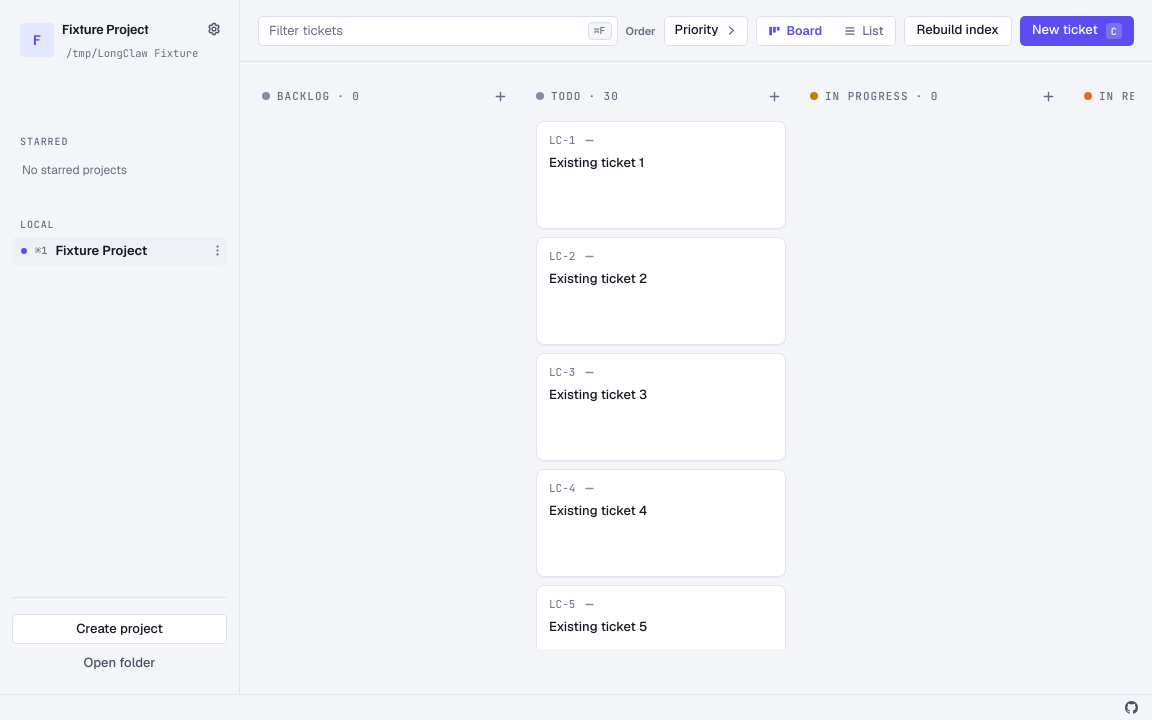
Test: optimistic create, write feedback, and undo (V0-17) › focuses the new card even when it lands outside the rendered window
expect the button "Board" is shown: met, box [758, 16, 833, 44]
Click the button "New ticketC".
click(1077, 30)  # box [1020, 16, 1134, 46]
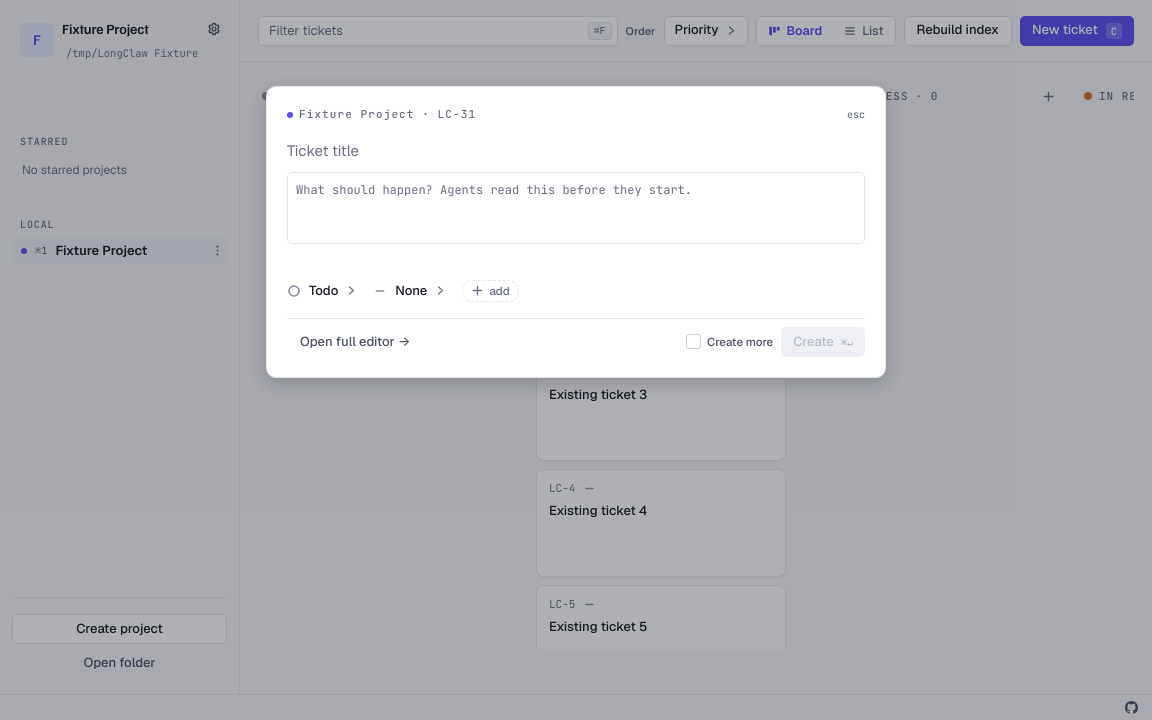
Type "The thirty-first" into the field labelled "title".
click(576, 150); type("The thirty-first")  # box [287, 141, 865, 160]
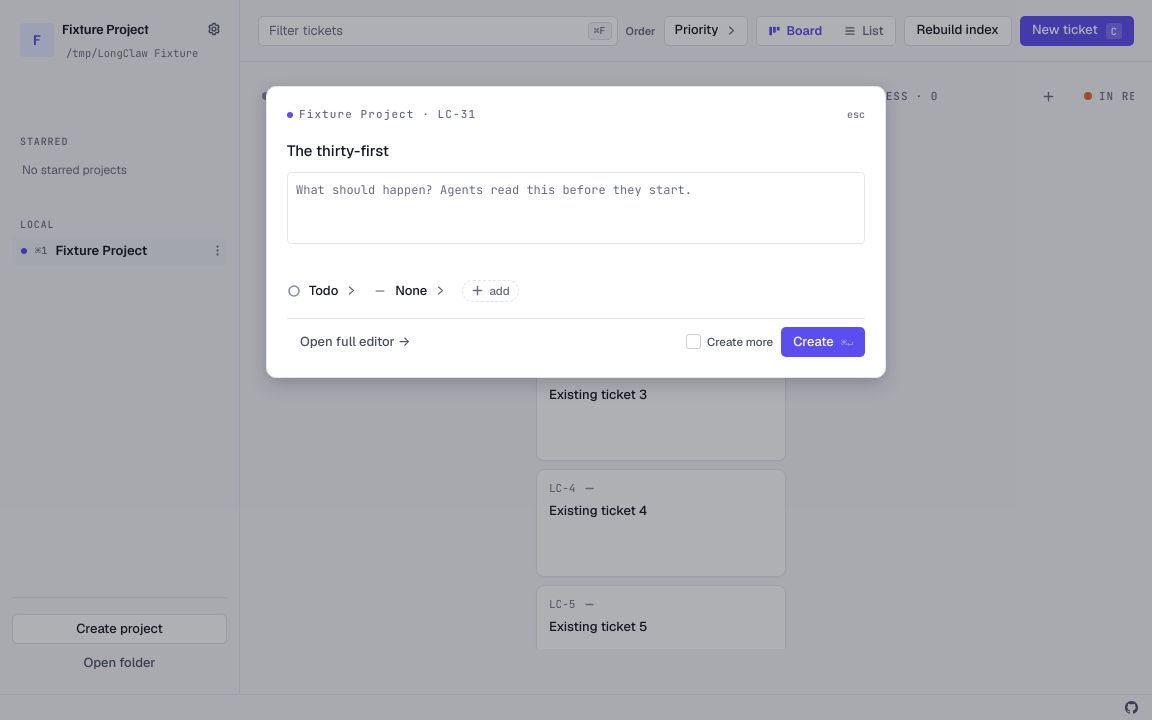
Click the button "Create ⌘↵".
click(823, 342)  # box [781, 327, 865, 357]
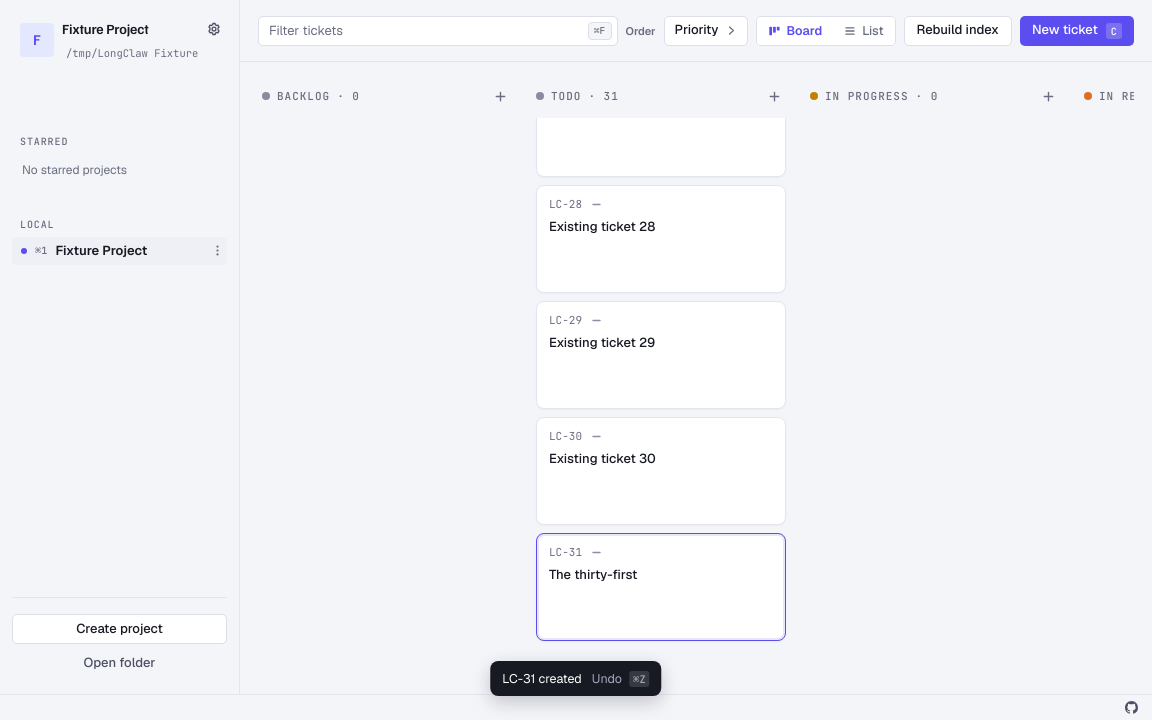
expect the text "LC-31 created" is shown: met, box [502, 670, 582, 687]
